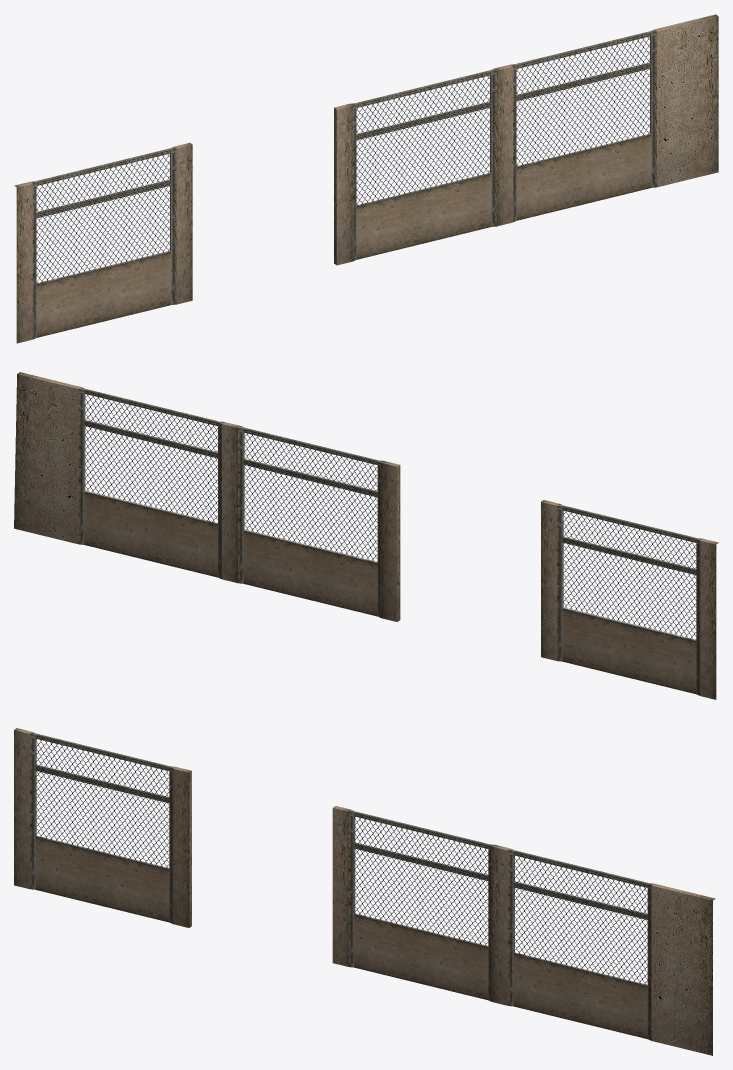
The model's file is M11B_Fence03.glb.
The picture shows the model from 3 angles, top to bottom: view 1: azimuth 30°, elevation 25°; view 2: azimuth 150°, elevation 25°; view 3: azimuth 330°, elevation 25°; orthographic projection.
Visible parts, largest first — view 1: M11B_FENCE03; view 2: M11B_FENCE03; view 3: M11B_FENCE03.
Part boxes in pixels (x1,y1,x2,y2): M11B_FENCE03: (14, 14, 718, 343); M11B_FENCE03: (14, 372, 718, 699); M11B_FENCE03: (14, 728, 715, 1055).
Size of the model in its own units: 8.81 by 1.86 by 0.06.
3 materials, 3 textured.
